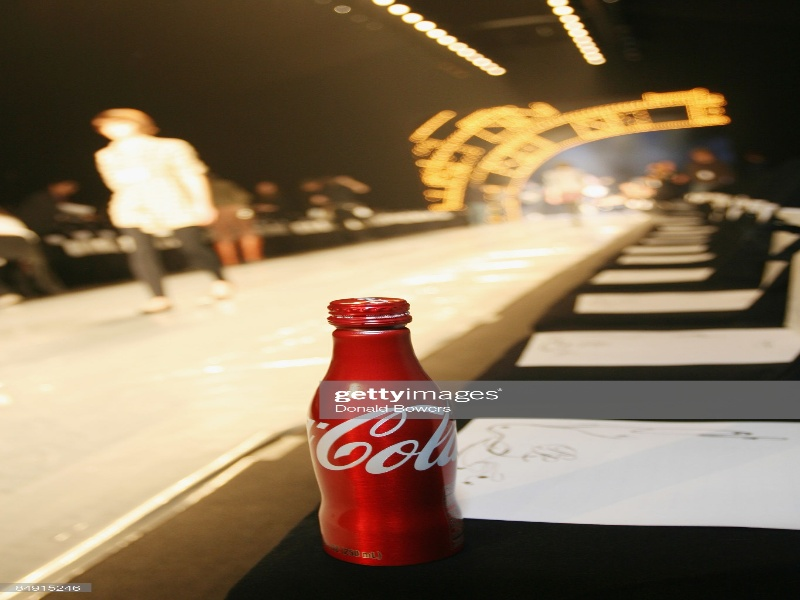coke-bottle-300ml: (295, 294, 462, 563)
